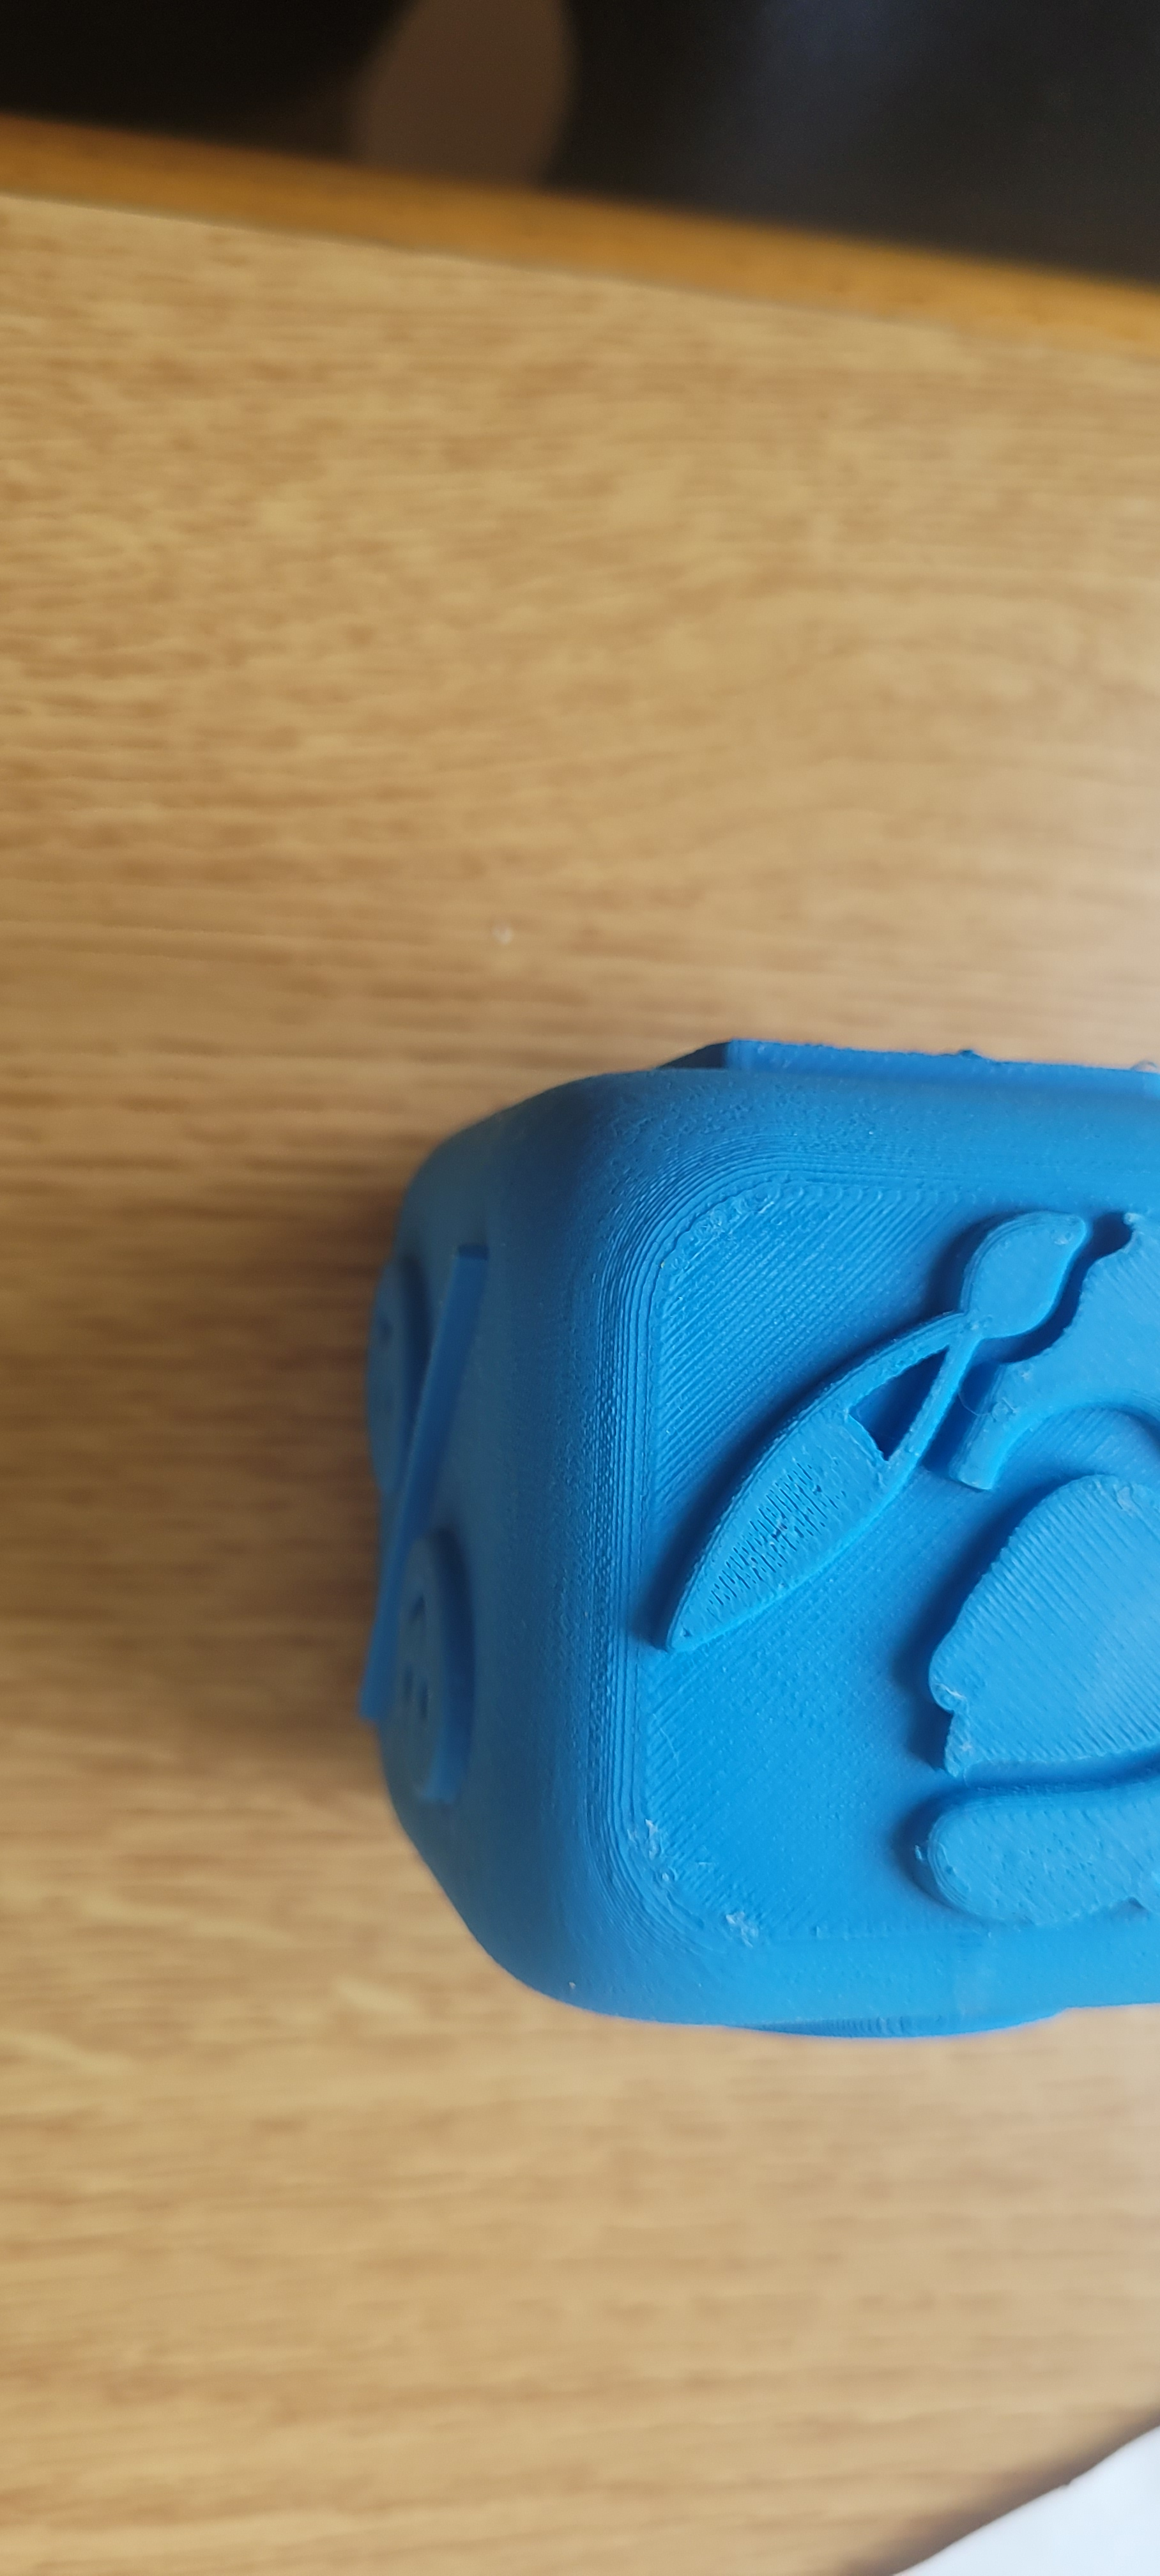Artist_Info: (630, 1020, 1160, 2057)
